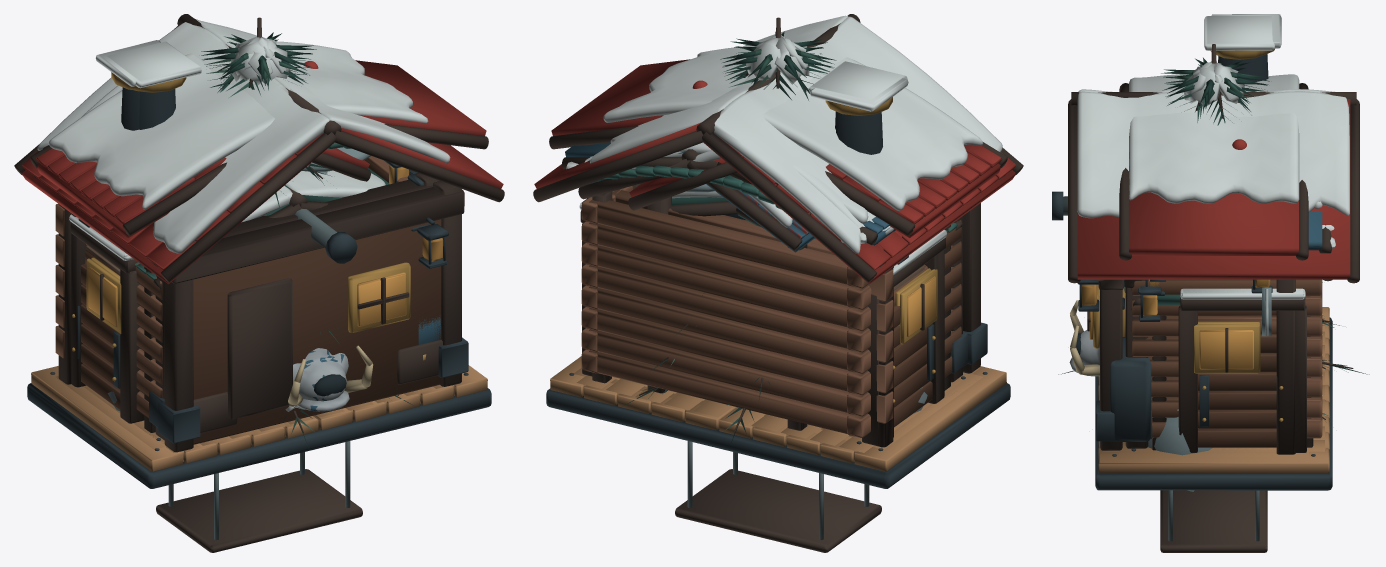
File: frostline-art.glb
3 views of the same model, side by side, from view 1: azimuth 30°, elevation 25°; view 2: azimuth 150°, elevation 25°; view 3: azimuth 270°, elevation 25° (orthographic). The views are drawn at different scales.
Visible parts, largest first — view 1: Cone.075, Cone.048, Cone.070, Cone.051, Cone.017, Cone.052, Cone.031, Cone.054, Cone.019, Cone.045, Cone.002, Cone.055 (+1 smaller); view 2: Cone.075, Cone.048, Cone.070, Cone.017, Cone.051, Cone.031, Cone.054, Cone.033, Cone.052, Cone.011, Cone.019, Cone.022 (+1 smaller); view 3: Cone.048, Cone.070, Cone.075, Cone.017, Cone.051, Cone.019, Cone.054, Cone.052, Cone.002, Cone.031, Sphere, Cone.022 (+3 smaller).
Boxes of the visible parts, x1=… form: Cone.075: x1=57, y1=159, x2=468, y2=461; Cone.048: x1=27, y1=41, x2=491, y2=488; Cone.070: x1=14, y1=14, x2=504, y2=284; Cone.051: x1=156, y1=441, x2=362, y2=552; Cone.017: x1=48, y1=142, x2=463, y2=449; Cone.052: x1=91, y1=156, x2=442, y2=440; Cone.031: x1=55, y1=40, x2=423, y2=440; Cone.054: x1=201, y1=17, x2=413, y2=444; Cone.019: x1=77, y1=41, x2=201, y2=439; Cone.045: x1=135, y1=168, x2=389, y2=289; Cone.002: x1=288, y1=345, x2=373, y2=406; Cone.055: x1=295, y1=208, x2=357, y2=263; Cone.075: x1=576, y1=191, x2=987, y2=461; Cone.048: x1=546, y1=46, x2=1010, y2=488; Cone.070: x1=533, y1=14, x2=1023, y2=284; Cone.017: x1=566, y1=156, x2=983, y2=449; Cone.051: x1=675, y1=441, x2=881, y2=552; Cone.031: x1=581, y1=78, x2=963, y2=447; Cone.054: x1=624, y1=17, x2=836, y2=444; Cone.033: x1=578, y1=149, x2=814, y2=252; Cone.052: x1=612, y1=186, x2=967, y2=438; Cone.011: x1=628, y1=150, x2=901, y2=249; Cone.019: x1=580, y1=61, x2=965, y2=441; Cone.022: x1=562, y1=142, x2=895, y2=245; Cone.048: x1=1095, y1=74, x2=1332, y2=490; Cone.070: x1=1068, y1=89, x2=1359, y2=283; Cone.075: x1=1077, y1=279, x2=1325, y2=451; Cone.017: x1=1119, y1=225, x2=1335, y2=457; Cone.051: x1=1160, y1=490, x2=1267, y2=552; Cone.019: x1=1138, y1=16, x2=1313, y2=452; Cone.054: x1=1058, y1=44, x2=1369, y2=419; Cone.052: x1=1122, y1=279, x2=1276, y2=449; Cone.002: x1=1070, y1=300, x2=1099, y2=376; Cone.031: x1=1124, y1=14, x2=1306, y2=452; Sphere: x1=1148, y1=409, x2=1212, y2=491; Cone.022: x1=1308, y1=201, x2=1331, y2=253.
Bounding box in the file's own units: 250 × 326 × 199.
